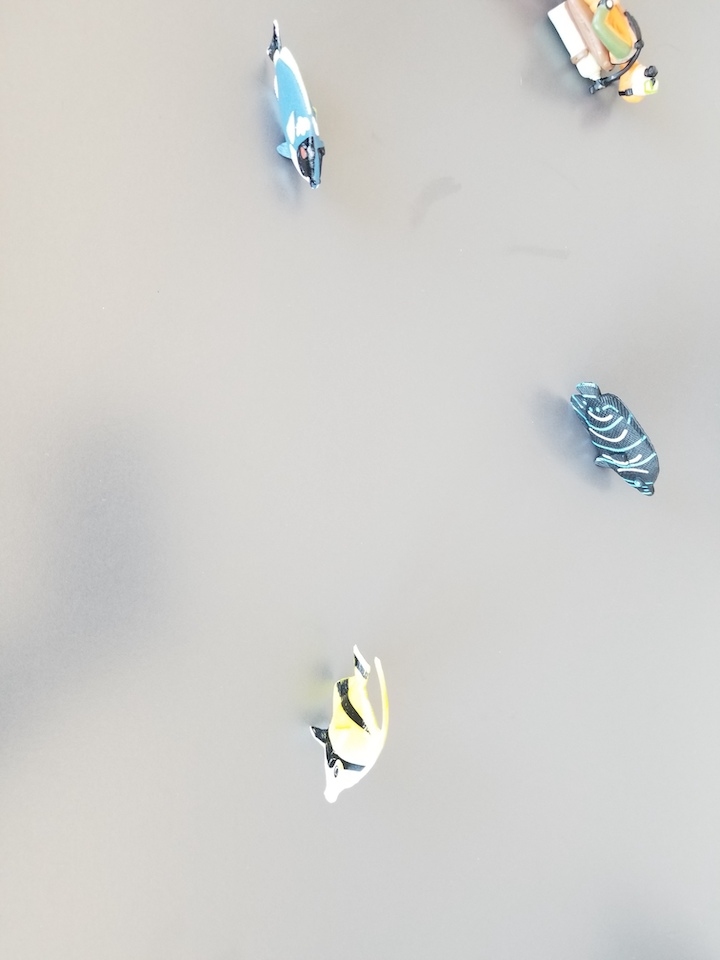danger: (310, 647, 391, 807)
diver: (547, 1, 663, 111)
fish: (266, 17, 332, 191), (567, 382, 663, 498)
